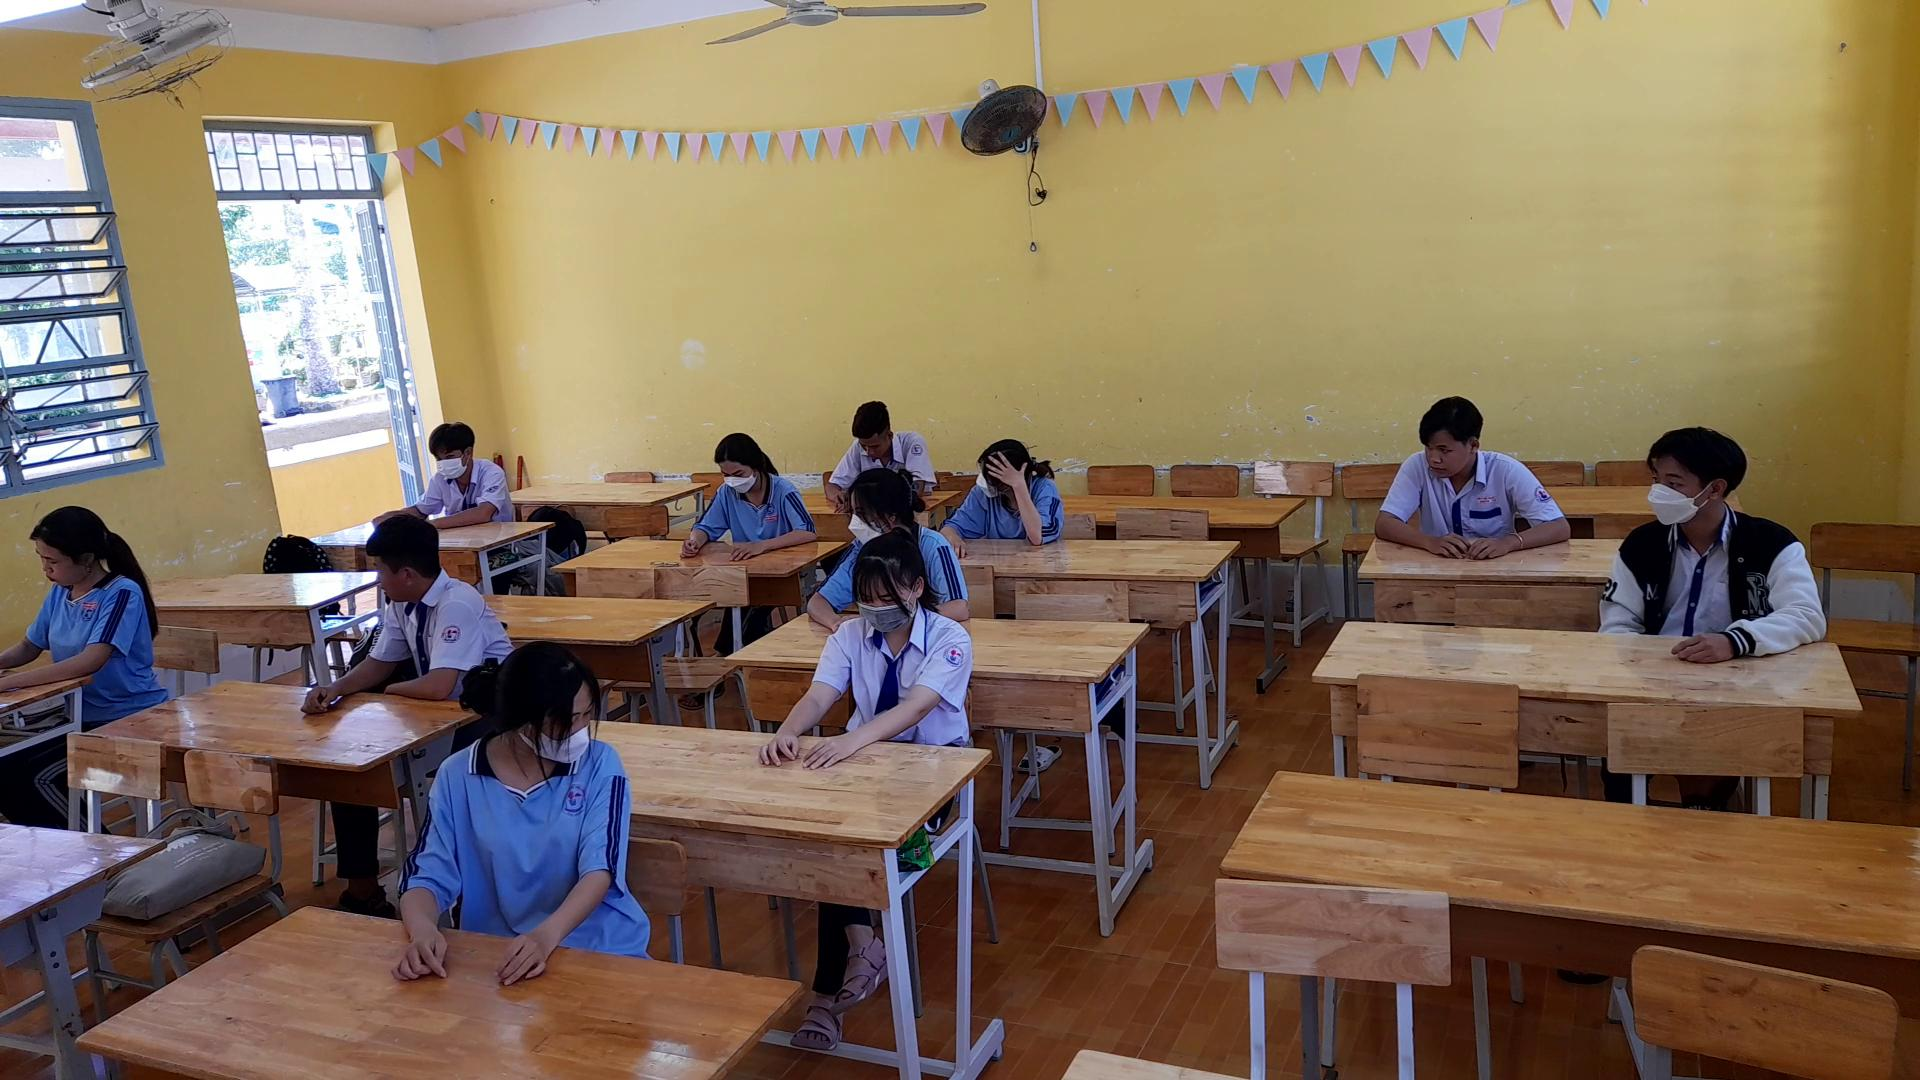Bend Over The Desk: (824, 386, 915, 487)
Look Around: (440, 615, 620, 800), (1607, 411, 1759, 566), (342, 492, 456, 611), (948, 417, 1080, 508), (1386, 389, 1518, 480), (807, 465, 959, 539), (810, 468, 961, 541)
Normal: (742, 514, 985, 774), (0, 506, 177, 703), (650, 415, 816, 567), (353, 414, 526, 526)
